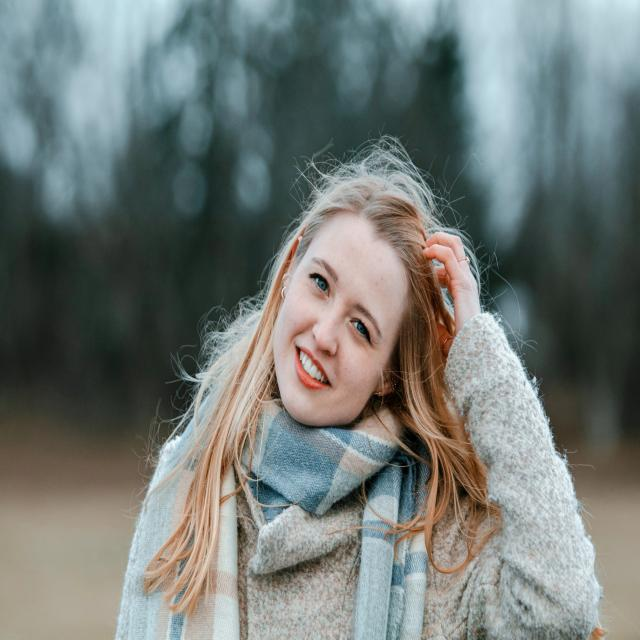adult: (120, 173, 595, 640)
